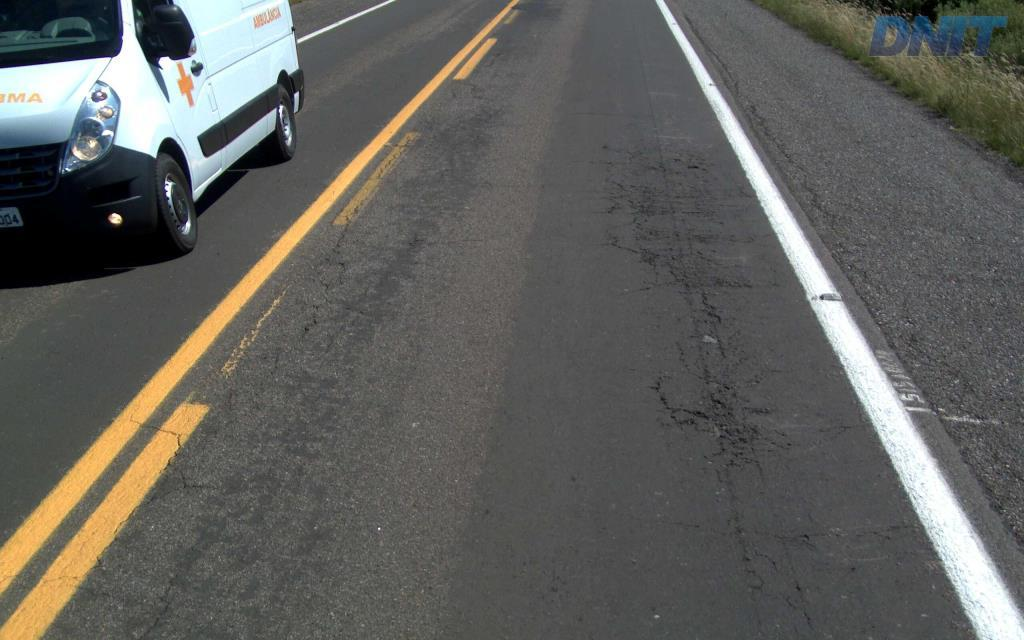crack: (660, 392, 758, 457)
